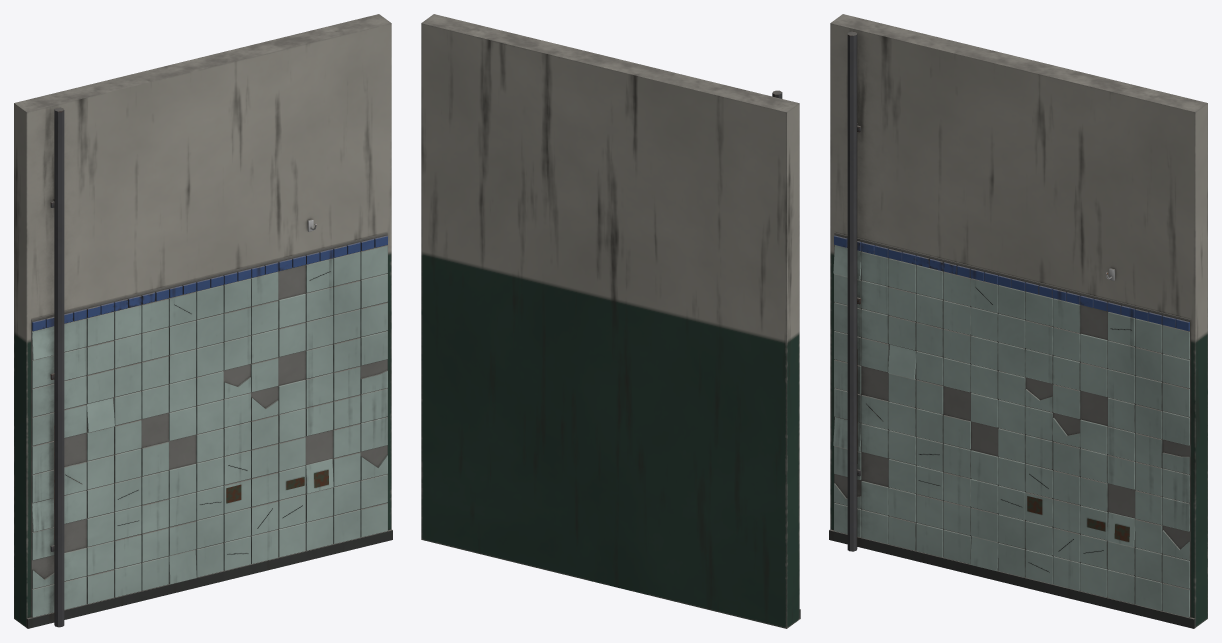
Rendered from SM_Wall_Tiled_2m.fbx.
The picture shows the model from 3 angles, left to right: view 1: azimuth 30°, elevation 25°; view 2: azimuth 150°, elevation 25°; view 3: azimuth 330°, elevation 25°; orthographic projection.
Parts seen in each view (by area): view 1: SM_Wall_Tiled_2m; view 2: SM_Wall_Tiled_2m; view 3: SM_Wall_Tiled_2m.
Part boxes in pixels (left/top/right/bottom): SM_Wall_Tiled_2m: left=14, top=14, right=392, bottom=628; SM_Wall_Tiled_2m: left=421, top=14, right=800, bottom=628; SM_Wall_Tiled_2m: left=829, top=14, right=1207, bottom=628.
Bounding box in the file's own units: 2 × 2.7 × 0.194.
1 material, 1 textured.
